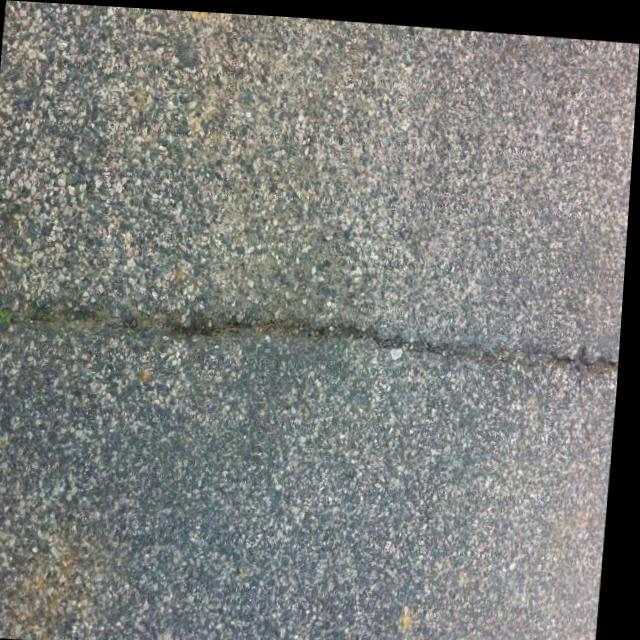Crack: (0, 252, 627, 418)
